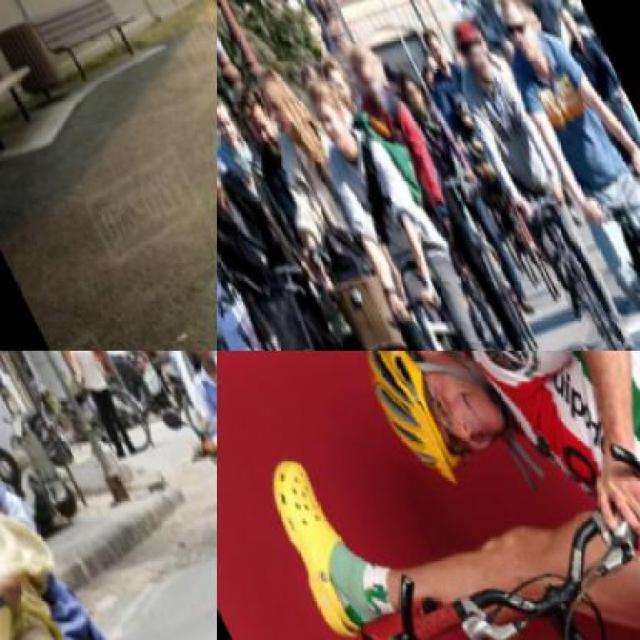With Helmet: (322, 350, 543, 522), (435, 0, 498, 78)
Without Helmet: (245, 51, 321, 152), (288, 57, 357, 152), (335, 32, 394, 113), (483, 0, 554, 60), (388, 56, 432, 115), (414, 14, 457, 74), (551, 0, 589, 40), (217, 117, 232, 206)
